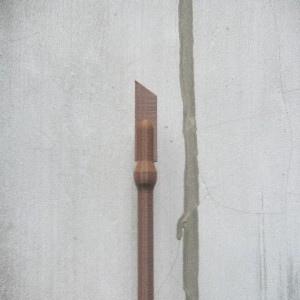cutter: (133, 78, 159, 300)
